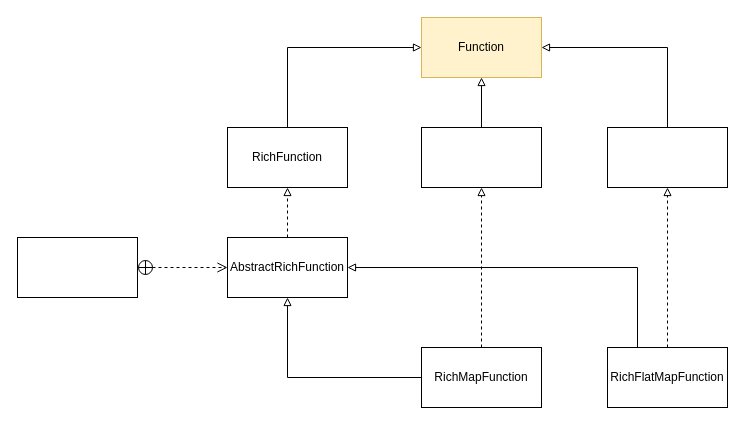
Some shapes in this 745 by 425 pixel diagram are drawn without their labels. Here are the shapes that lost their labels. From the top down, the centre of each, then its label:
At pixel 481 157: "MapFunction".
At pixel 667 157: "FlatMapFunction".
At pixel 77 267: "RuntimeContext".
